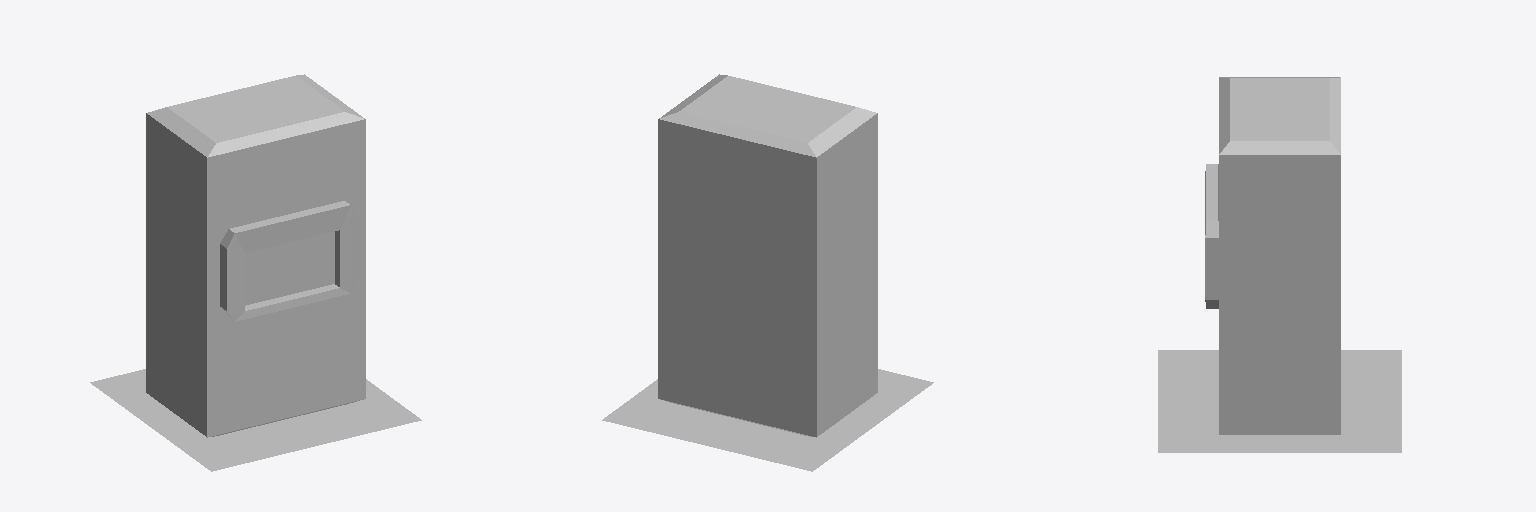
Rendered from ASSET_Machine_test.obj.
The picture shows the model from 3 angles: view 1: azimuth 30°, elevation 25°; view 2: azimuth 150°, elevation 25°; view 3: azimuth 270°, elevation 25°; orthographic projection.
Parts seen in each view (by area): view 1: Cube_Cube.001, Plane_Plane.001, Cube.001_Cube.004; view 2: Cube_Cube.001, Plane_Plane.001; view 3: Cube_Cube.001, Plane_Plane.001, Cube.001_Cube.004.
Boxes of the visible parts, x1=… form: Cube_Cube.001: x1=146, y1=74, x2=365, y2=437; Plane_Plane.001: x1=90, y1=369, x2=421, y2=471; Cube.001_Cube.004: x1=220, y1=201, x2=359, y2=321; Cube_Cube.001: x1=658, y1=74, x2=877, y2=437; Plane_Plane.001: x1=602, y1=369, x2=933, y2=471; Cube_Cube.001: x1=1219, y1=77, x2=1340, y2=434; Plane_Plane.001: x1=1158, y1=350, x2=1401, y2=452; Cube.001_Cube.004: x1=1205, y1=164, x2=1218, y2=308.
Size of the model in its own units: 4 by 5.31 by 4.